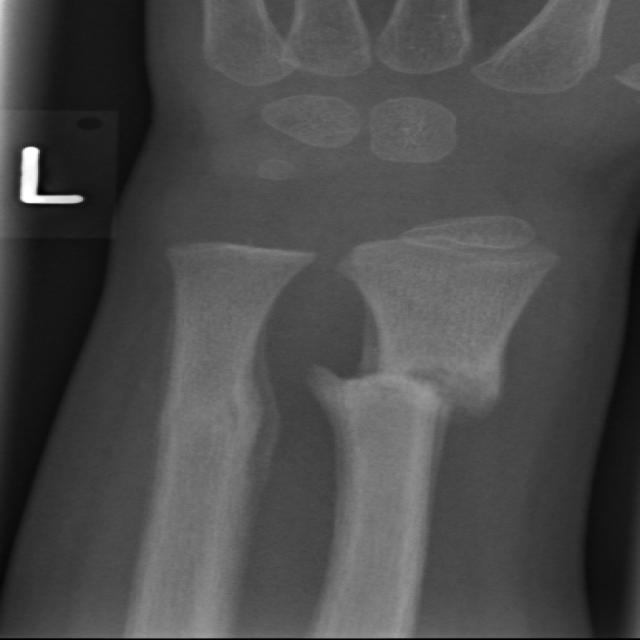radius fracture: (296, 307, 556, 520)
ulna fracture: (122, 273, 299, 551)
